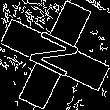N_SE: (24, 26, 86, 84)
